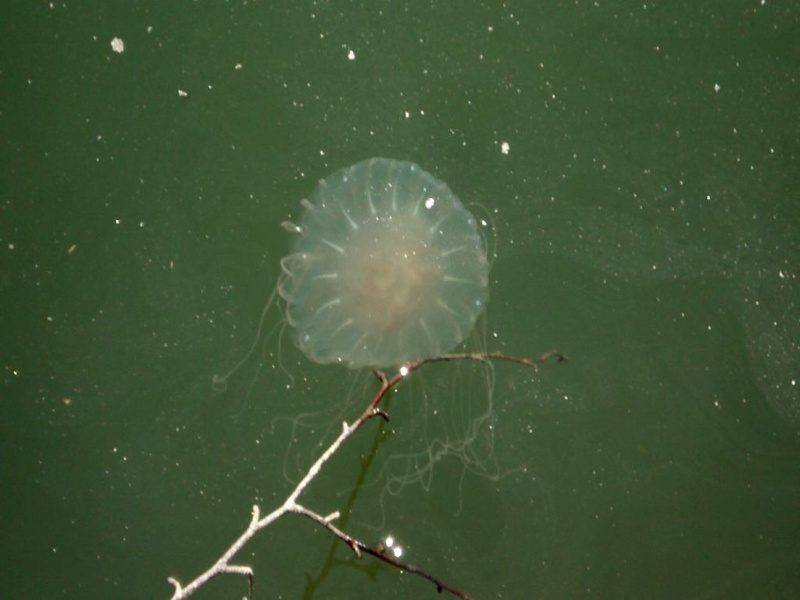Jellyfish: (205, 154, 527, 531)
